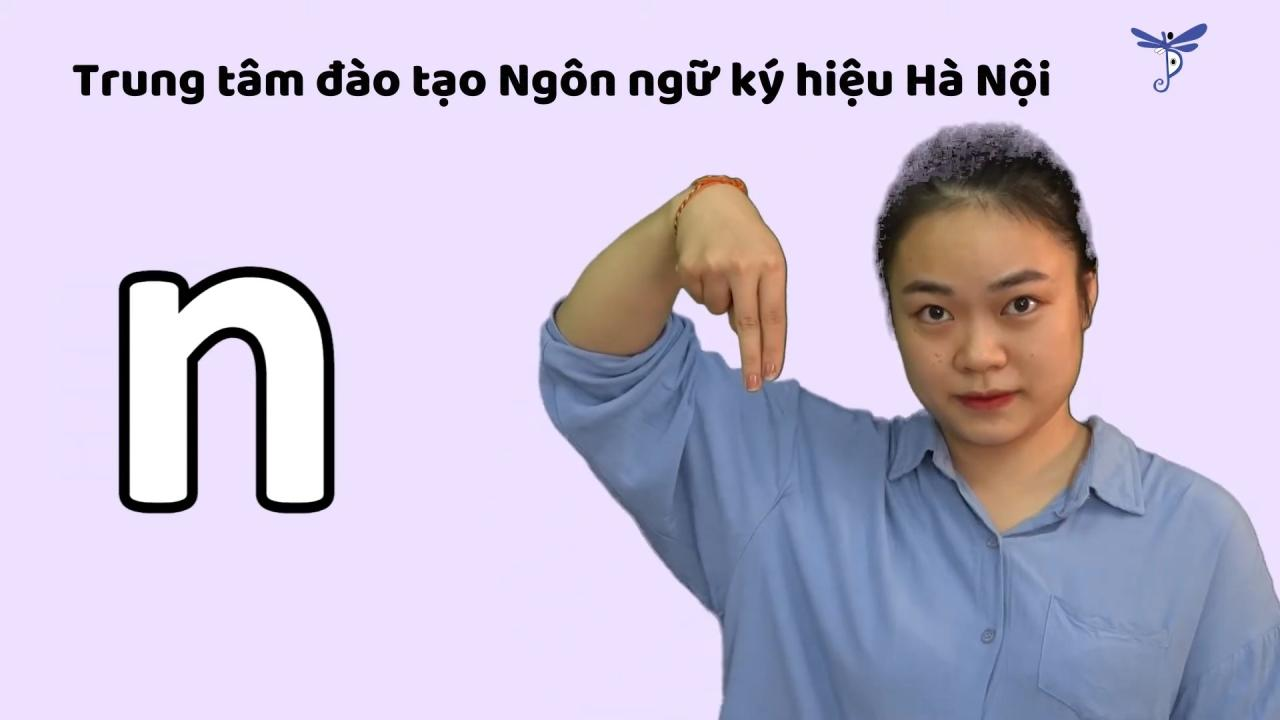N: (671, 169, 789, 409)
